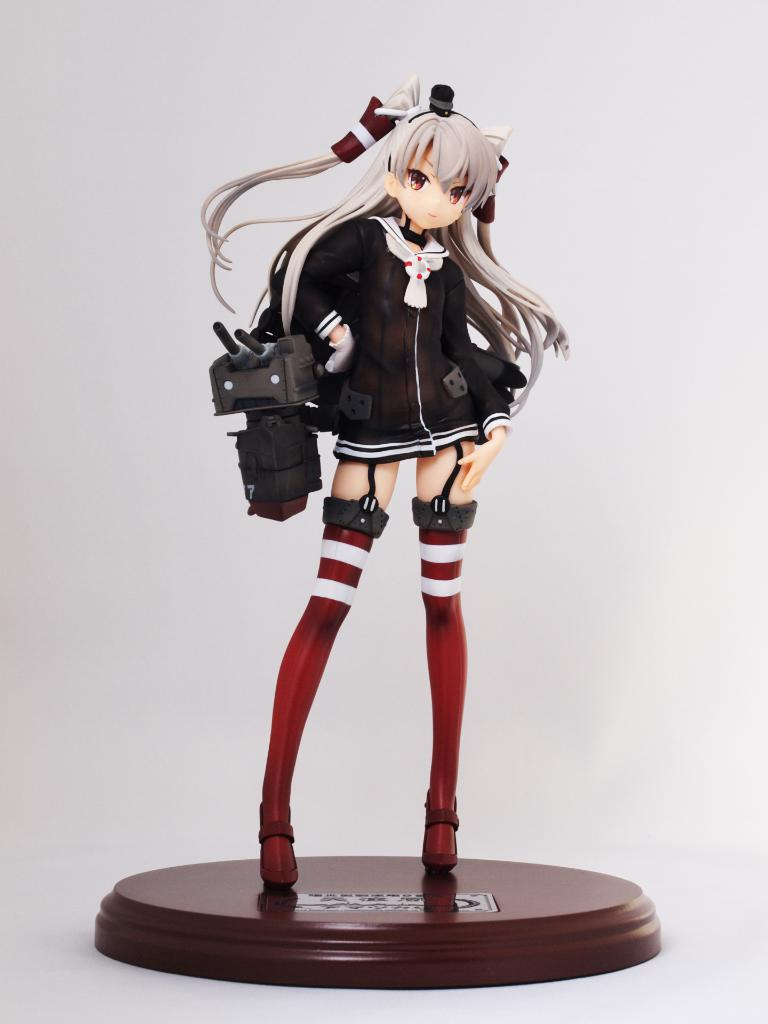Footwear: (256, 800, 302, 891), (423, 790, 458, 870)
